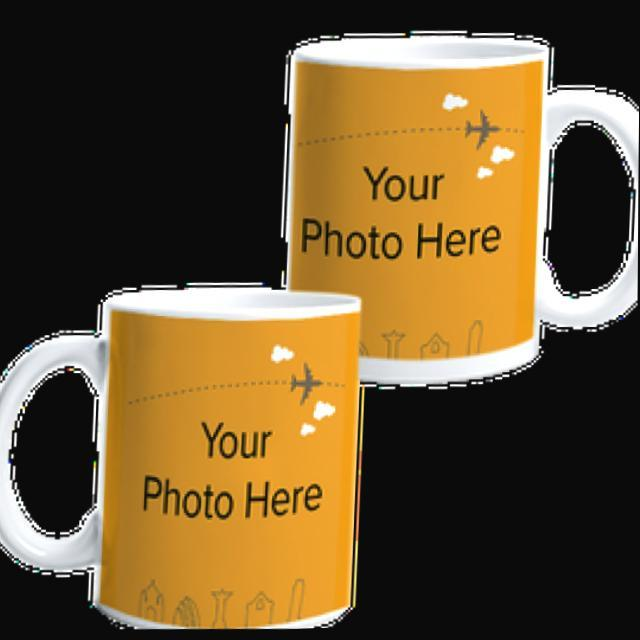cup: (0, 272, 373, 640)
